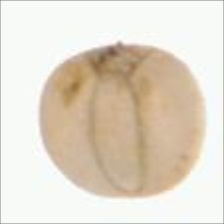L5: (88, 72, 148, 193), (83, 43, 152, 79), (76, 178, 168, 201)
L6: (36, 38, 210, 203)
